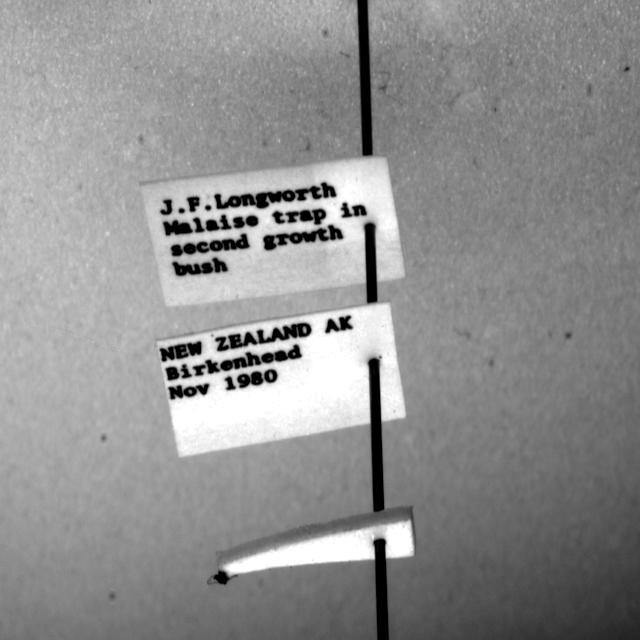typed_label: (141, 156, 405, 306)
